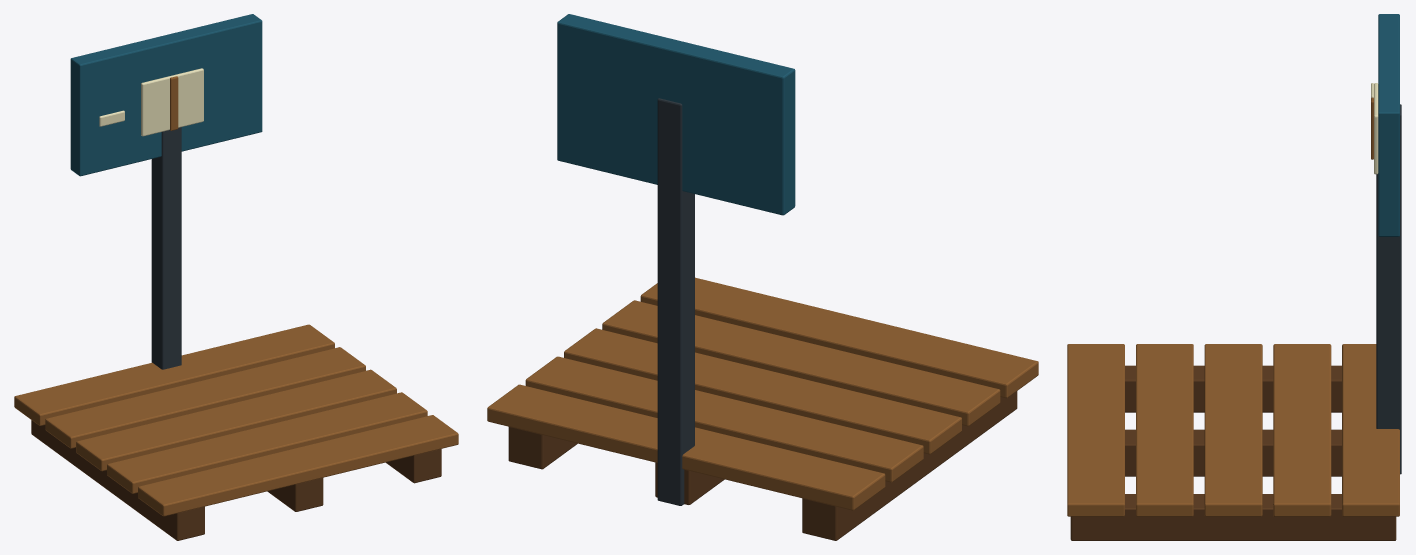
The model's file is SM_DeliveryDropoff.fbx.
3 renders of one model, left to right at view 1: azimuth 30°, elevation 25°; view 2: azimuth 150°, elevation 25°; view 3: azimuth 270°, elevation 25°, orthographic. The views are drawn at different scales.
Visible parts, largest first — view 1: SM_DeliveryDropoff; view 2: SM_DeliveryDropoff; view 3: SM_DeliveryDropoff.
Part boxes in pixels (x1,y1,x2,y2): SM_DeliveryDropoff: (14, 14, 458, 540); SM_DeliveryDropoff: (487, 14, 1038, 540); SM_DeliveryDropoff: (1067, 14, 1401, 540).
Size of the model in its own units: 105 by 92.5 by 124.
1 material, 1 textured.
